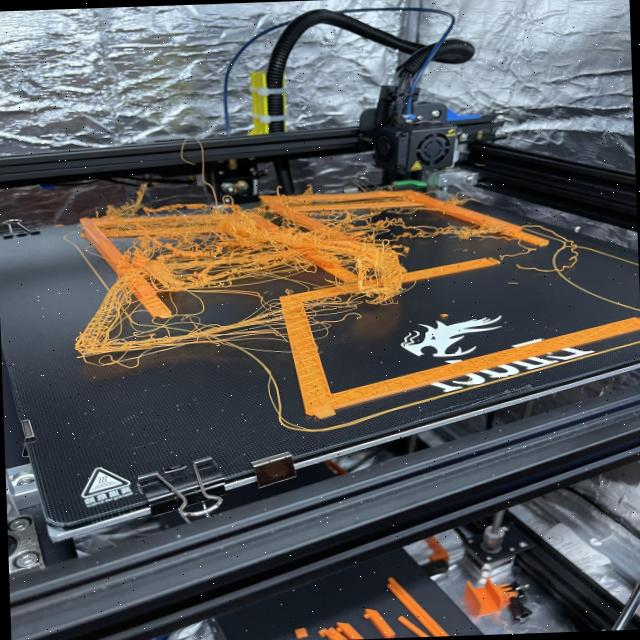spaghetti: (34, 185, 442, 378)
